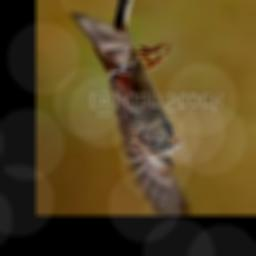Sparrow: (69, 0, 190, 216)
